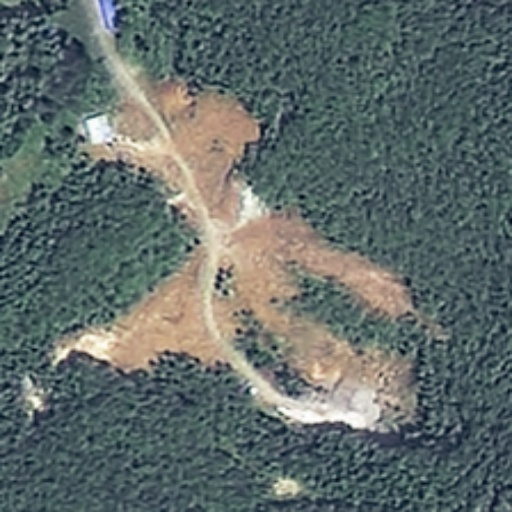landslide: (48, 84, 424, 433)
